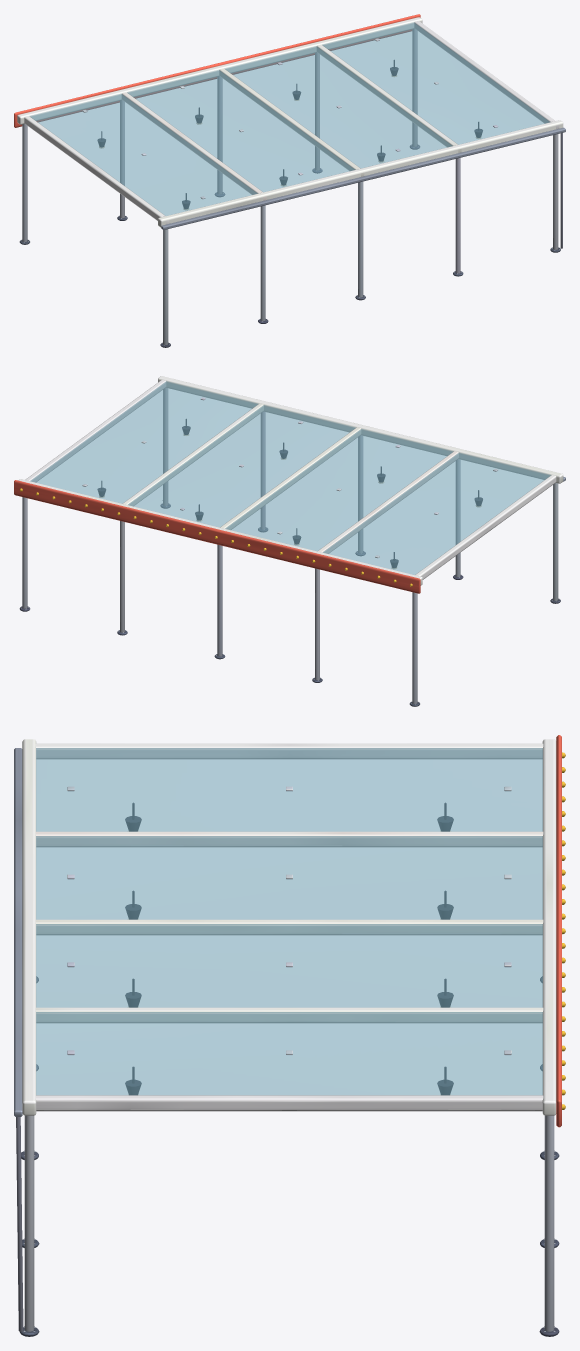
The model's file is SM_Dealer_ShowroomCanopy.fbx.
3 views of the same model, one above another, from view 1: azimuth 30°, elevation 25°; view 2: azimuth 150°, elevation 25°; view 3: azimuth 270°, elevation 25° (orthographic). The views are drawn at different scales.
Parts seen in each view (by area): view 1: SM_Dealer_ShowroomCanopy; view 2: SM_Dealer_ShowroomCanopy; view 3: SM_Dealer_ShowroomCanopy.
Boxes of the visible parts, x1=… form: SM_Dealer_ShowroomCanopy: x1=14, y1=14, x2=565, y2=347; SM_Dealer_ShowroomCanopy: x1=14, y1=376, x2=565, y2=706; SM_Dealer_ShowroomCanopy: x1=14, y1=735, x2=565, y2=1336.
Bounding box in the file's own units: 1250 × 382 × 796.
